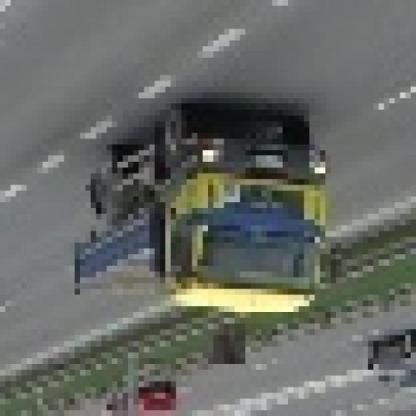truck: (81, 111, 348, 330)
